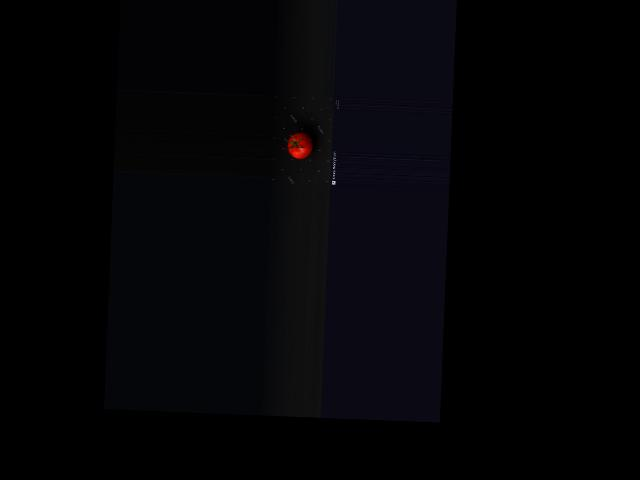tomato: (287, 131, 312, 159)
